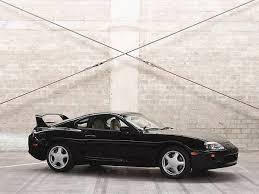car: (21, 101, 245, 185)
